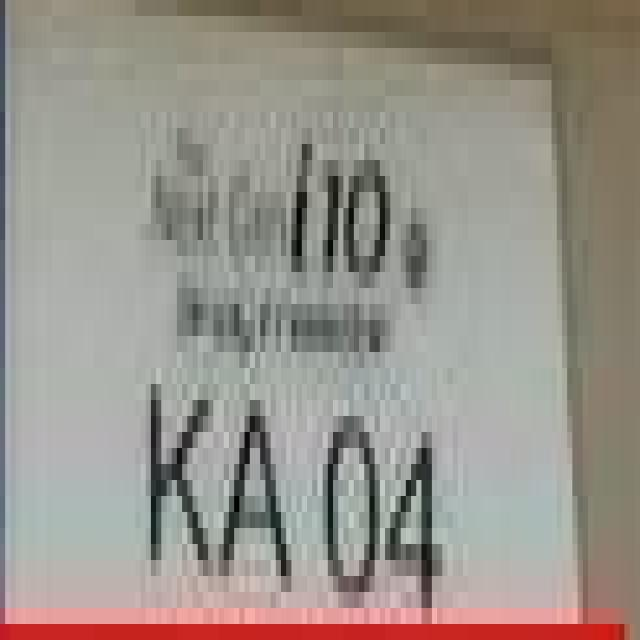license_plate: (21, 48, 640, 608)
